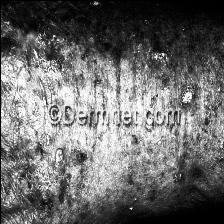Potentially Malignant Skin Tumors: (5, 0, 207, 105), (38, 140, 87, 178)
